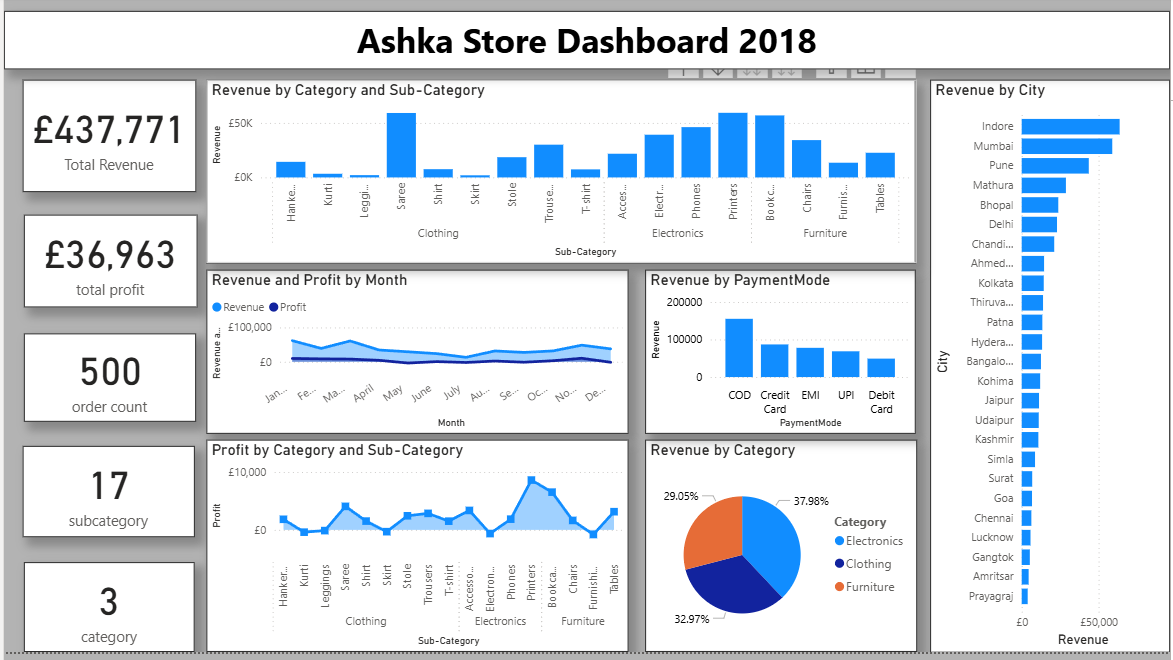

Layout of this report page (visuals, bound fields, positions):
{"tool":"powerbi","page":{"name":"Page 1","canvas":[1280,720],"ordinal":0},"visuals":[{"type":"card","fields":{"Values":["DETAILS.total sales"]},"box":[20,91.4,190,122.9],"z":0},{"type":"card","fields":{"Values":["DETAILS.total profit"]},"box":[21.4,240,190,101.4],"z":1000},{"type":"card","fields":{"Values":["DETAILS.order count"]},"box":[21.4,370,188.6,97.1],"z":2000},{"type":"card","fields":{"Values":["DETAILS.unique category"]},"box":[21.4,621.4,187.1,98.6],"z":3000},{"type":"card","fields":{"Values":["DETAILS.subcategory"]},"box":[20,494.3,188.6,100],"z":4000},{"type":"pieChart","fields":{"Category":["DETAILS.Category"],"Y":["Sum(DETAILS.Amount)"]},"box":[704.3,487.1,298.6,232.9],"z":5000},{"type":"columnChart","fields":{"Category":["DETAILS.PaymentMode"],"Y":["Sum(DETAILS.Amount)"]},"box":[704.3,300,297.1,180],"z":6000},{"type":"areaChart","fields":{"Category":["Merge1.Order Date.Variation.Date Hierarchy.Month"],"Y":["Sum(Merge1.Amount)","Sum(Merge1.Profit)"]},"box":[222.9,300,462.9,180],"z":7000},{"type":"stackedAreaChart","fields":{"Category":["Merge1.Category","Merge1.Sub-Category"],"Y":["Sum(Merge1.Profit)"]},"box":[222.9,487.1,462.9,232.9],"z":8000},{"type":"barChart","fields":{"Category":["Merge1.City"],"Y":["Sum(Merge1.Amount)"]},"box":[1017.1,91.4,262.9,628.6],"z":9000},{"type":"clusteredColumnChart","fields":{"Y":["Sum(Merge1.Amount)"],"Category":["Merge1.Category","Merge1.Sub-Category"]},"box":[222.9,91.4,778.6,201.4],"z":10000},{"type":"textbox","box":[0,17.1,1280,64.3],"z":11000}]}

Visuals, with their boxes in screenshot pixels (x1, y1, x2, y2), scaled from the page's 1280x720 canvas onto the 1173x660 screenshot:
card - DETAILS.total sales: [left=18, top=84, right=192, bottom=196]
card - DETAILS.total profit: [left=20, top=220, right=194, bottom=313]
card - DETAILS.order count: [left=20, top=339, right=192, bottom=428]
card - DETAILS.unique category: [left=20, top=570, right=191, bottom=659]
card - DETAILS.subcategory: [left=18, top=453, right=191, bottom=545]
pieChart - DETAILS.Category x Sum(DETAILS.Amount): [left=645, top=447, right=919, bottom=659]
columnChart - DETAILS.PaymentMode x Sum(DETAILS.Amount): [left=645, top=275, right=918, bottom=440]
areaChart - Merge1.Order Date.Variation.Date Hierarchy.Month x Sum(Merge1.Amount): [left=204, top=275, right=628, bottom=440]
stackedAreaChart - Merge1.Category x Merge1.Sub-Category: [left=204, top=447, right=628, bottom=659]
barChart - Merge1.City x Sum(Merge1.Amount): [left=932, top=84, right=1172, bottom=659]
clusteredColumnChart - Sum(Merge1.Amount) x Merge1.Category: [left=204, top=84, right=918, bottom=268]
textbox: [left=0, top=16, right=1172, bottom=75]
